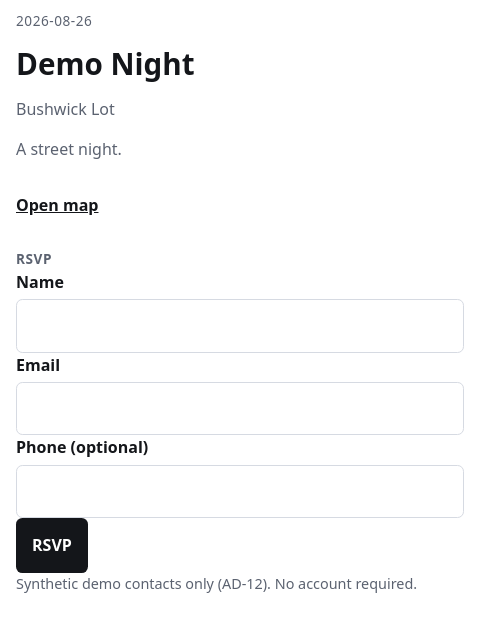
Test case: EventPageView › renders promotion fields and accepts an RSVP
Expected: the heading "Demo Night" is shown, [16,43,195,84]
Expected: the text "A street night." is shown, [16,138,122,160]
Type "Ada" into the field labelled "Name" at coordinates (240, 326), box [16,299,464,353]
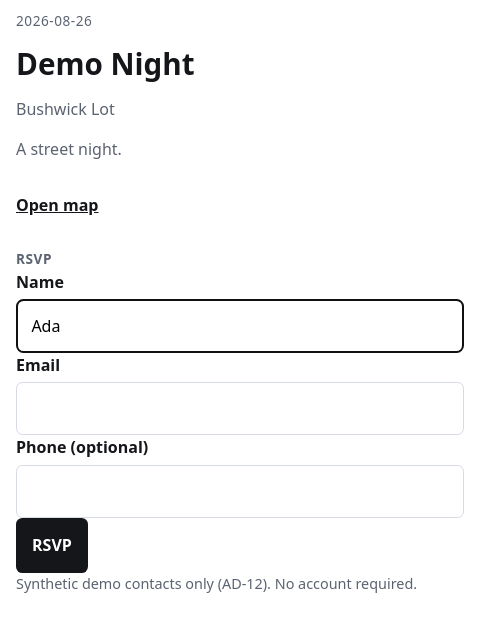
Type "ada@example.com" into the field labelled "Email" at coordinates (240, 409), box [16,382,464,435]
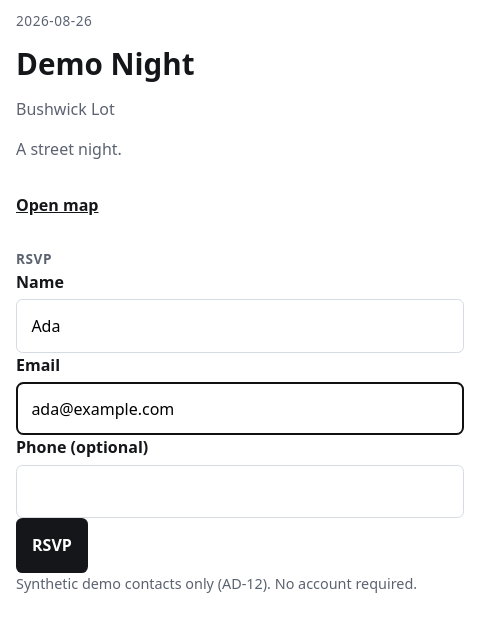
Click the button "RSVP" at coordinates (52, 545), box [16,518,88,573]
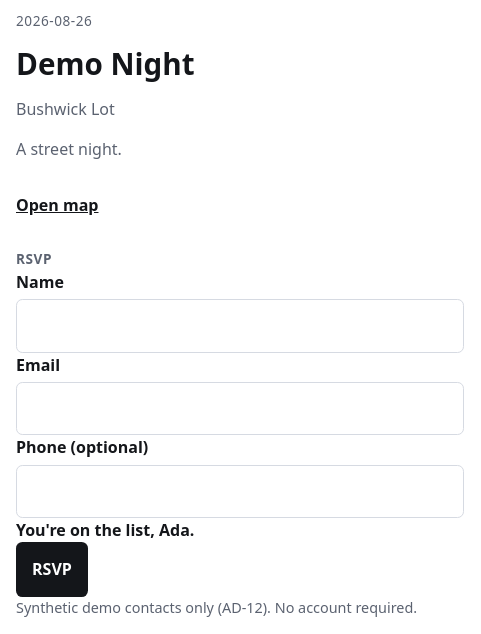
Expected: the message shows "on the list", [16,519,194,541]
